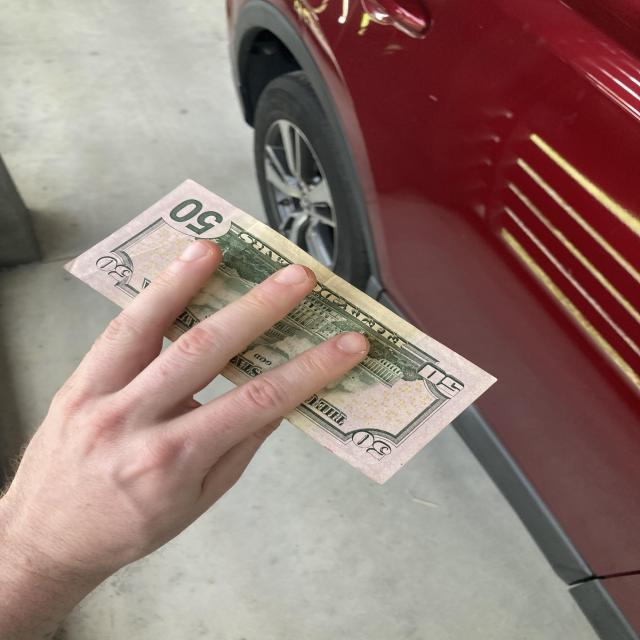fifty: (60, 145, 497, 506)
